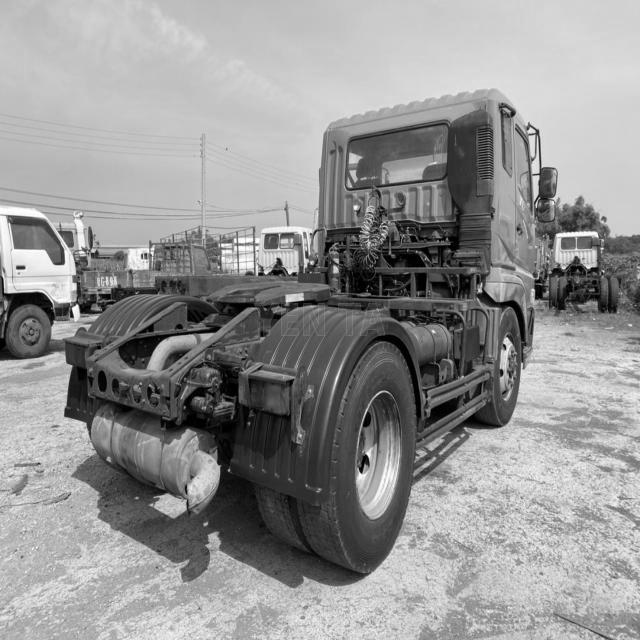truck: (69, 84, 561, 578), (1, 194, 95, 341), (78, 235, 216, 316), (544, 210, 624, 325)
